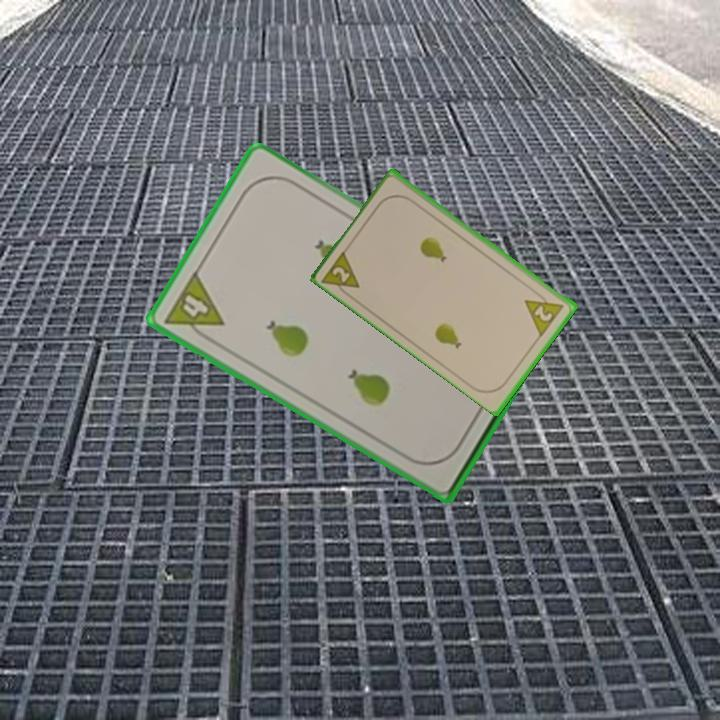2p: (319, 245, 364, 301), (521, 287, 567, 338)
4p: (160, 268, 227, 347)
